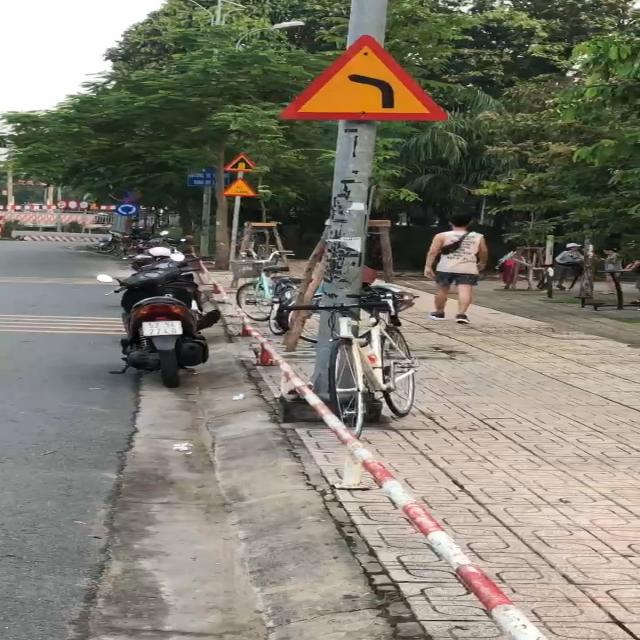Bien bao cho ngoat nguy hiem: (258, 29, 483, 127)
